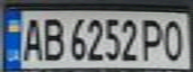2: (118, 15, 142, 63), (84, 15, 106, 62)
5: (103, 15, 124, 62)
6: (66, 15, 87, 62)
A: (18, 14, 45, 63)
B: (39, 15, 66, 62)
O: (160, 16, 190, 62)
P: (139, 16, 169, 62)
